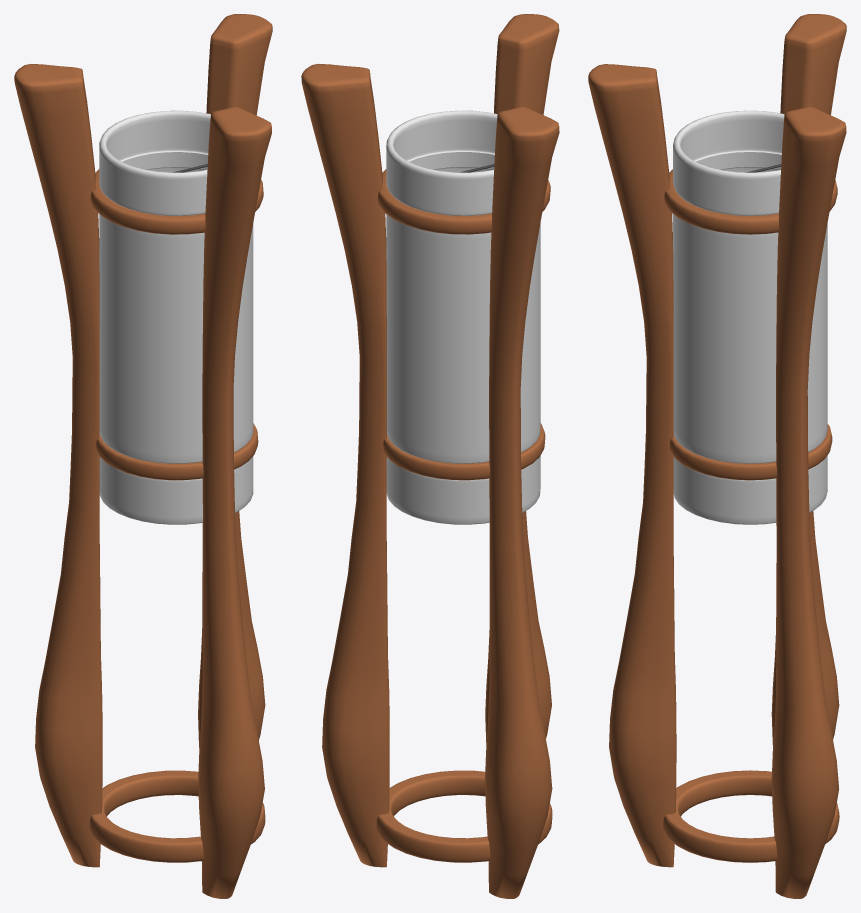
Rendered from Chronos Floor Lamp.fbx.
The picture shows the model from 3 angles, left to right: view 1: azimuth 30°, elevation 25°; view 2: azimuth 150°, elevation 25°; view 3: azimuth 270°, elevation 25°; orthographic projection.
Parts seen in each view (by area): view 1: Lamo_boy, Lamp_mesh; view 2: Lamo_boy, Lamp_mesh; view 3: Lamo_boy, Lamp_mesh.
Part boxes in pixels (x1,y1,x2,y2): Lamo_boy: (14, 14, 272, 898); Lamp_mesh: (99, 110, 253, 524); Lamo_boy: (301, 14, 559, 898); Lamp_mesh: (386, 110, 540, 524); Lamo_boy: (588, 14, 846, 898); Lamp_mesh: (673, 110, 827, 524).
Size of the model in its own units: 0.6111 by 1.85 by 0.5486.
